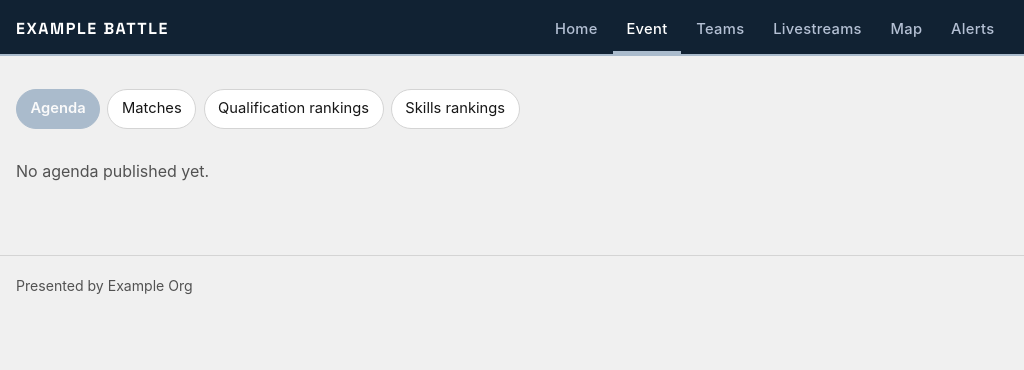
Test: public site › event: IQ shows one Teams column and a single score, with the match number linking to its video
The image size is (1024, 370).
Step 1. Click the button "Matches" → point(152, 109), box [107,89,196,129]
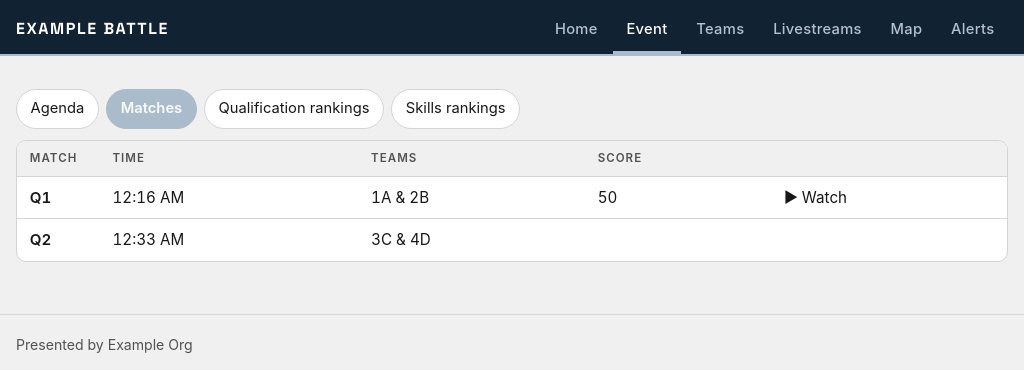
Now the text "50" is shown, box [585,177,771,219]
Now the column heading "Teams" is shown, box [358,141,585,177]
